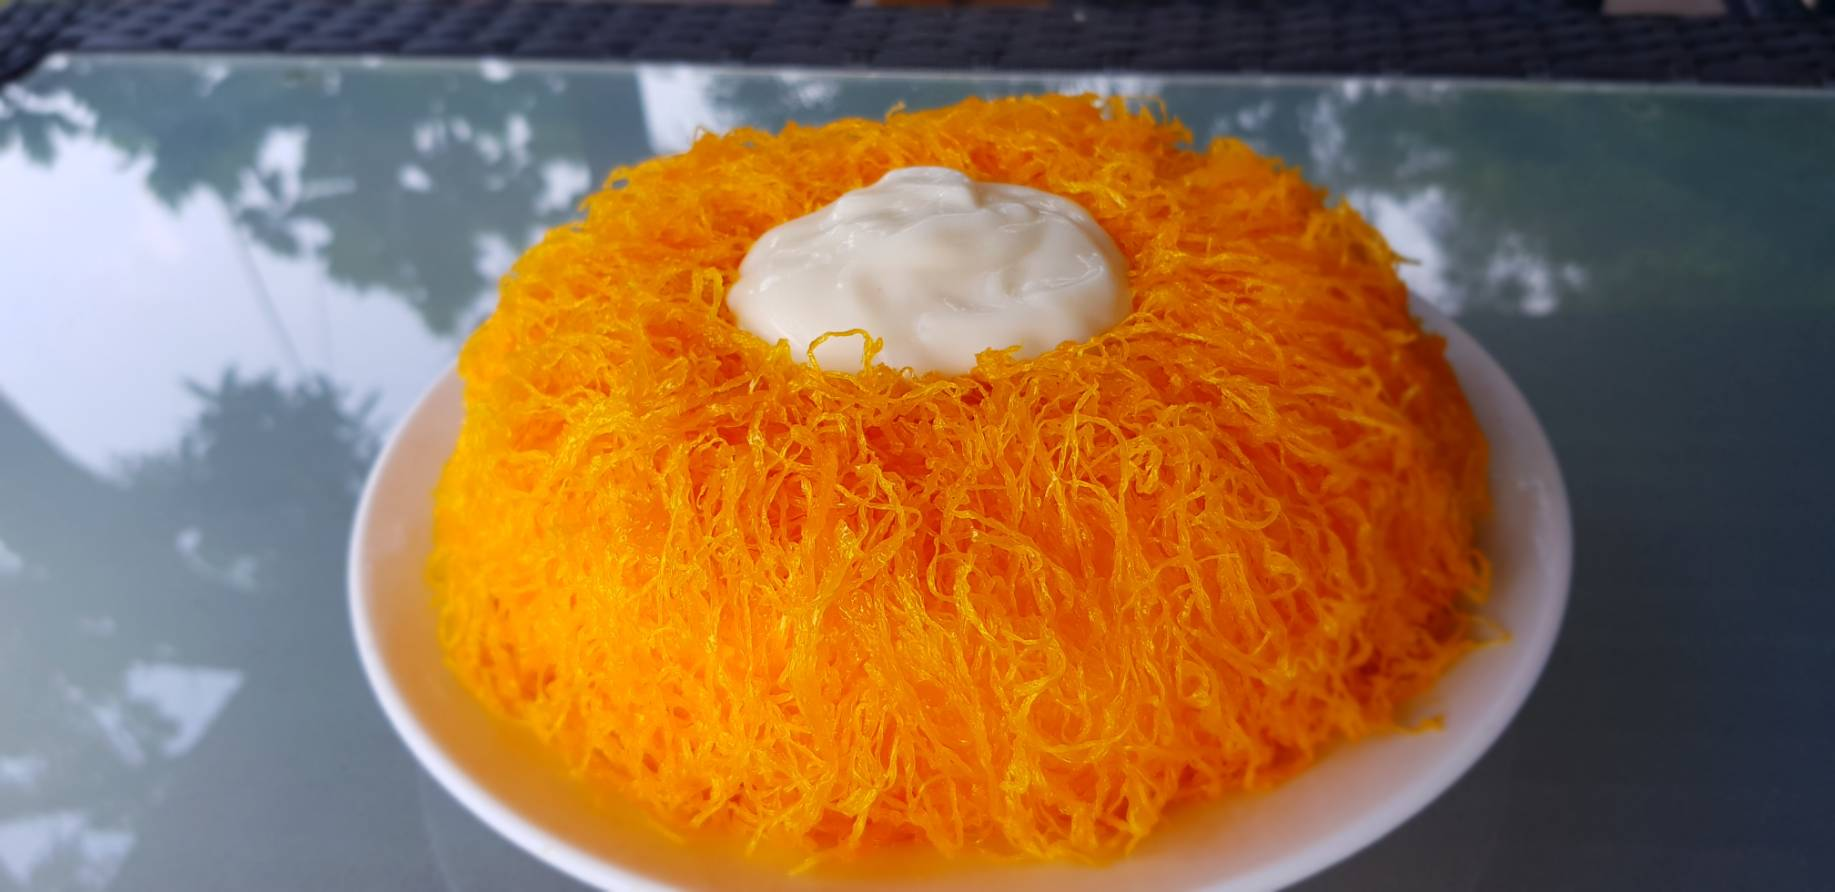foitong: (1031, 366, 1475, 761), (719, 376, 1066, 866), (1114, 137, 1431, 603), (481, 293, 728, 771), (470, 186, 729, 462)
